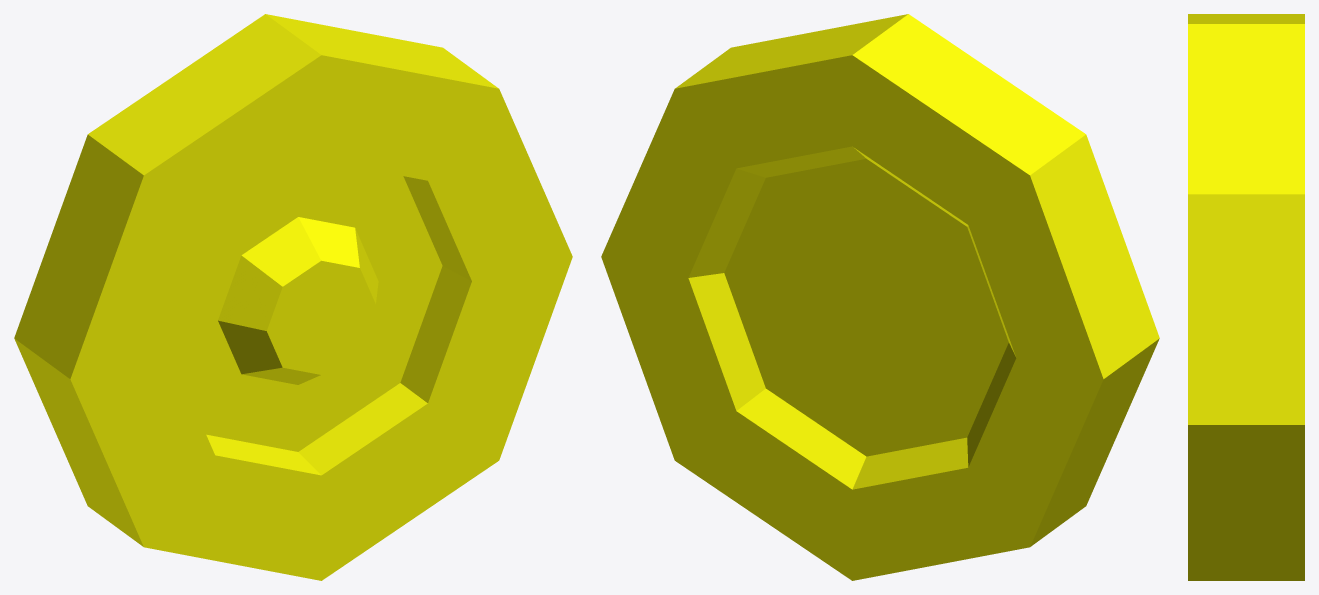
Rendered from coin.glb.
3 renders of one model, left to right at view 1: azimuth 30°, elevation 25°; view 2: azimuth 150°, elevation 25°; view 3: azimuth 270°, elevation 25°, orthographic. The views are drawn at different scales.
Parts seen in each view (by area): view 1: Coin; view 2: Coin; view 3: Coin.
Part boxes in pixels (left/top/right/bottom): Coin: left=14, top=14, right=572, bottom=580; Coin: left=601, top=14, right=1159, bottom=580; Coin: left=1188, top=14, right=1304, bottom=580.
Bounding box in the file's own units: 0.8295 × 0.8295 × 0.1607.
1 material, 1 textured.
